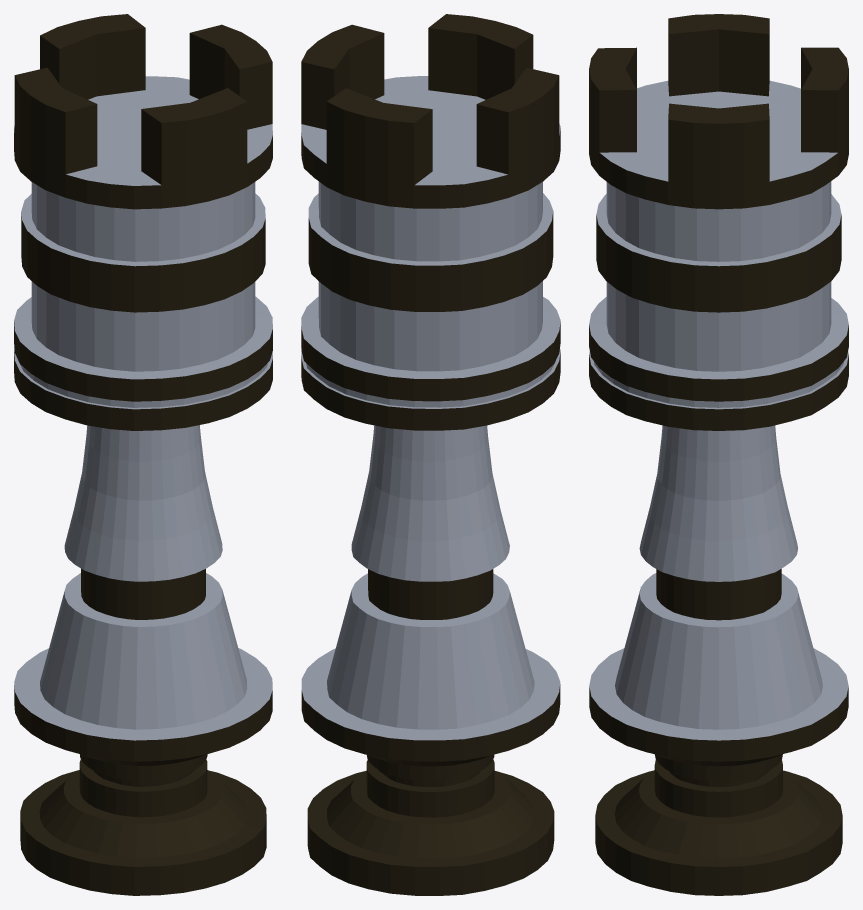
Rendered from metal_r_w.glb.
3 renders of one model, left to right at view 1: azimuth 30°, elevation 25°; view 2: azimuth 150°, elevation 25°; view 3: azimuth 270°, elevation 25°, orthographic.
Parts seen in each view (by area): view 1: r0, r1; view 2: r0, r1; view 3: r0, r1.
Boxes of the visible parts, x1=… form: r0: x1=14, y1=14, x2=272, y2=895; r1: x1=14, y1=76, x2=272, y2=740; r0: x1=301, y1=14, x2=560, y2=895; r1: x1=301, y1=76, x2=560, y2=740; r0: x1=589, y1=14, x2=848, y2=895; r1: x1=589, y1=80, x2=848, y2=740.
Bounding box in the file's own units: 0.2735 × 0.9 × 0.2735.
